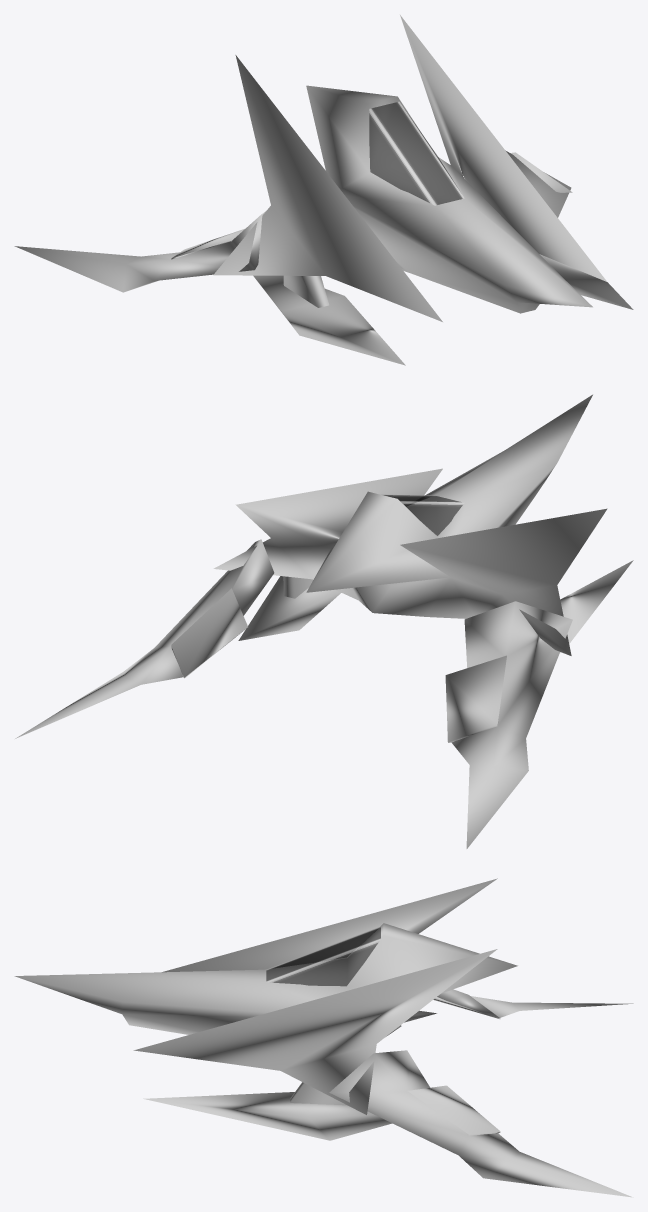
The model's file is arwingNew39.obj.
The picture shows the model from 3 angles, top to bottom: view 1: azimuth 30°, elevation 25°; view 2: azimuth 150°, elevation 25°; view 3: azimuth 270°, elevation 25°; orthographic projection. The views are drawn at different scales.
Parts seen in each view (by area): view 1: Arwing.002; view 2: Arwing.002; view 3: Arwing.002.
Boxes of the visible parts, <box> form: Arwing.002: <box>14,15,633,365</box>; Arwing.002: <box>15,394,633,848</box>; Arwing.002: <box>14,878,633,1197</box>.
Size of the model in its own units: 4.77 by 2.15 by 6.45.
